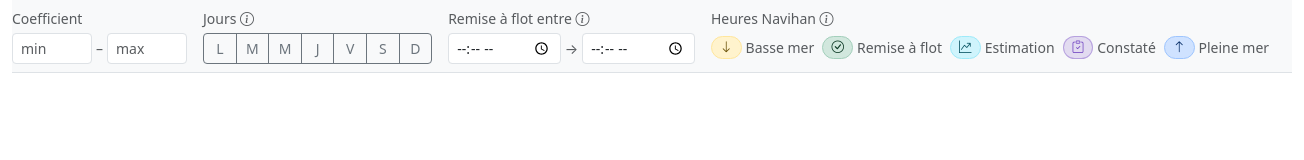
Scenario: TideFiltersBar › n’affiche le bouton Réinitialiser que si un filtre est actif, et il remet tout à zéro
This screenshot has width=1304, height=160.
Expected: the text "Réinitialiser" is not shown
Step 1. Type "80" into the number field with placeholder "min" → [52, 48], box [12, 33, 92, 64]
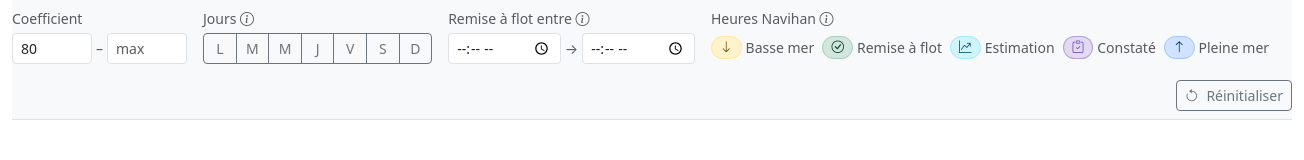
Expected: the text "Réinitialiser" is shown
Step 2. Click the button with class "ms-auto" → [1234, 96], box [1176, 80, 1292, 111]
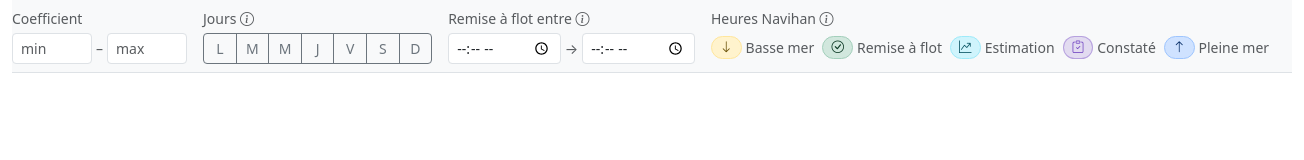
Expected: the text "Réinitialiser" is gone
